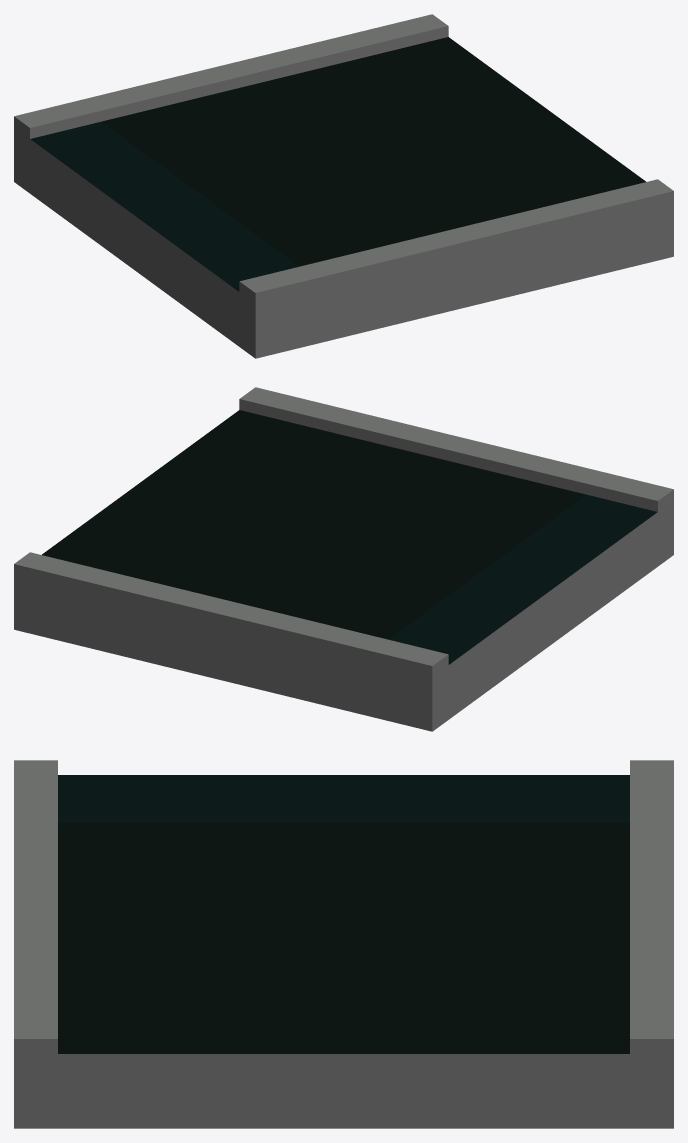
Rendered from RoadTile.glb.
The picture shows the model from 3 angles, top to bottom: view 1: azimuth 30°, elevation 25°; view 2: azimuth 150°, elevation 25°; view 3: azimuth 270°, elevation 25°; orthographic projection. The views are drawn at different scales.
Visible parts, largest first — view 1: Road Tile; view 2: Road Tile; view 3: Road Tile.
Part boxes in pixels (left/top/right/bottom): Road Tile: left=14, top=14, right=673, bottom=358; Road Tile: left=14, top=387, right=673, bottom=731; Road Tile: left=14, top=760, right=673, bottom=1128.
Bounding box in the file's own units: 8 × 1.2 × 8.
Materials: 1 (1 with a texture image).
